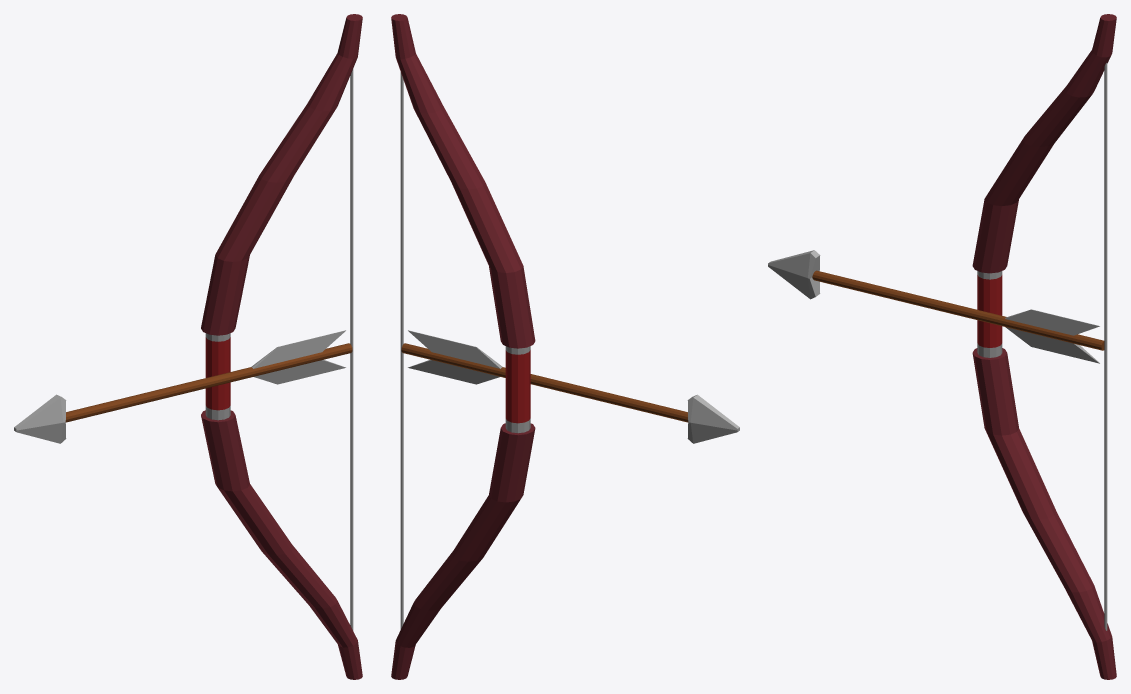
File: bow.fbx
3 views of the same model, side by side, from view 1: azimuth 30°, elevation 25°; view 2: azimuth 150°, elevation 25°; view 3: azimuth 330°, elevation 25° (orthographic).
Parts seen in each view (by area): view 1: Cylinder.001; view 2: Cylinder.001; view 3: Cylinder.001.
Boxes of the visible parts, x1,y1,x2,y2 form: Cylinder.001: (14, 14, 362, 679); Cylinder.001: (391, 14, 739, 679); Cylinder.001: (768, 14, 1116, 679).
Size of the model in its own units: 85.18 by 155 by 10.16.
